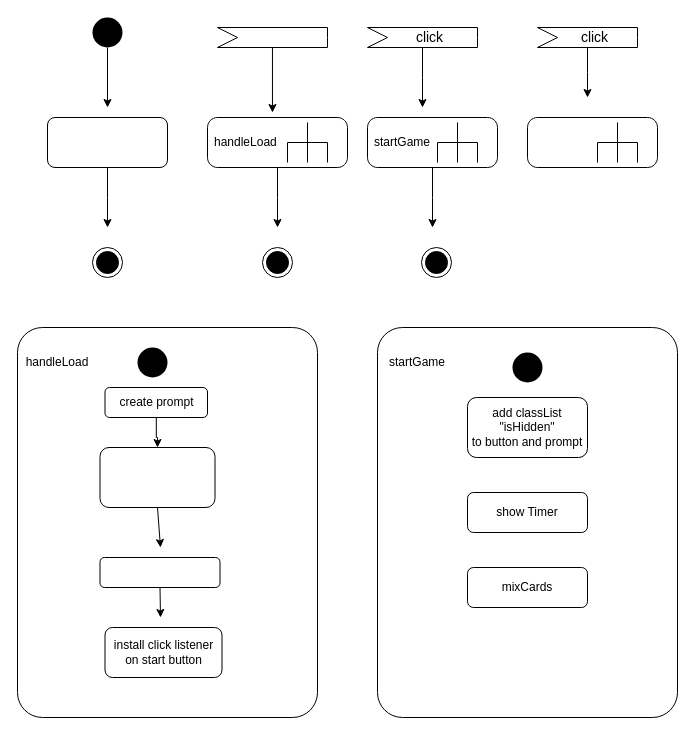
This 695x735 diagram has some shape labels left out. Each missing label, with the box of its shape:
create start button: (99, 556, 220, 588)
install click and keydown listener on prompt: (99, 446, 215, 508)
install load listener on window: (46, 116, 168, 168)
load: (216, 26, 328, 48)
turnCard: (526, 116, 658, 168)
